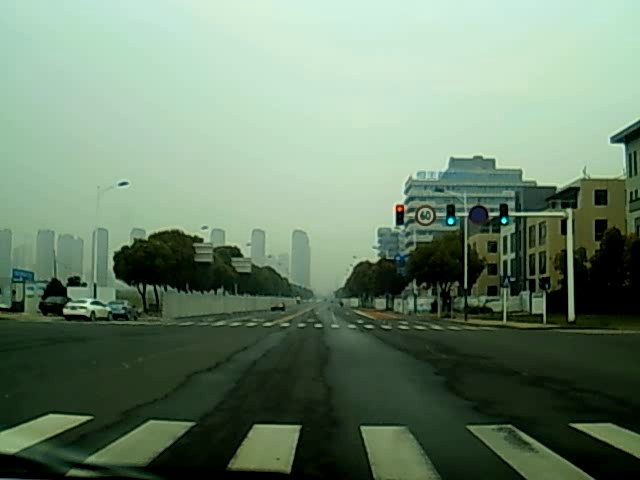Traffic_Light_go: (498, 204, 509, 226), (445, 202, 454, 228)
Traffic_Light_stop: (395, 206, 405, 226)
